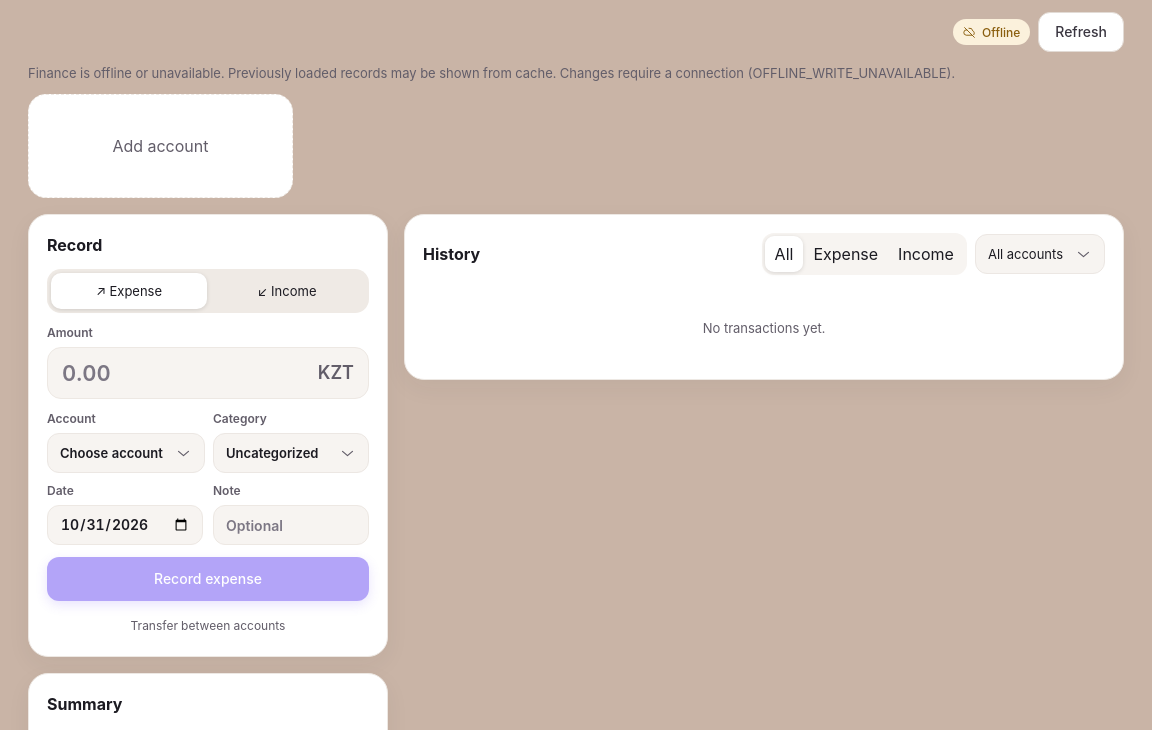
Test: connected workspaces › keeps offline ledger writes disabled while showing cached data
Click the button "Add account" at point(160, 146), box [28,94,293,198]
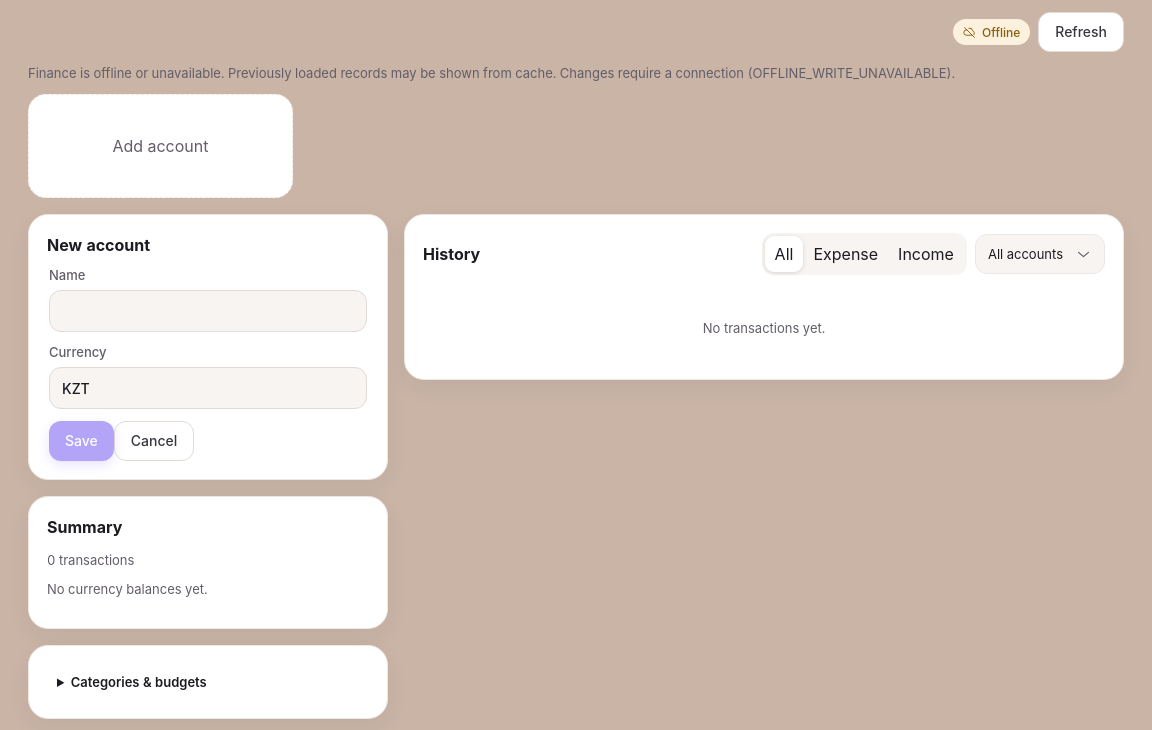
expect the text "OFFLINE_WRITE_UNAVAILABLE" is shown: met, box [28,65,955,81]
expect the button "Save" is disabled: met, box [49,421,114,461]
